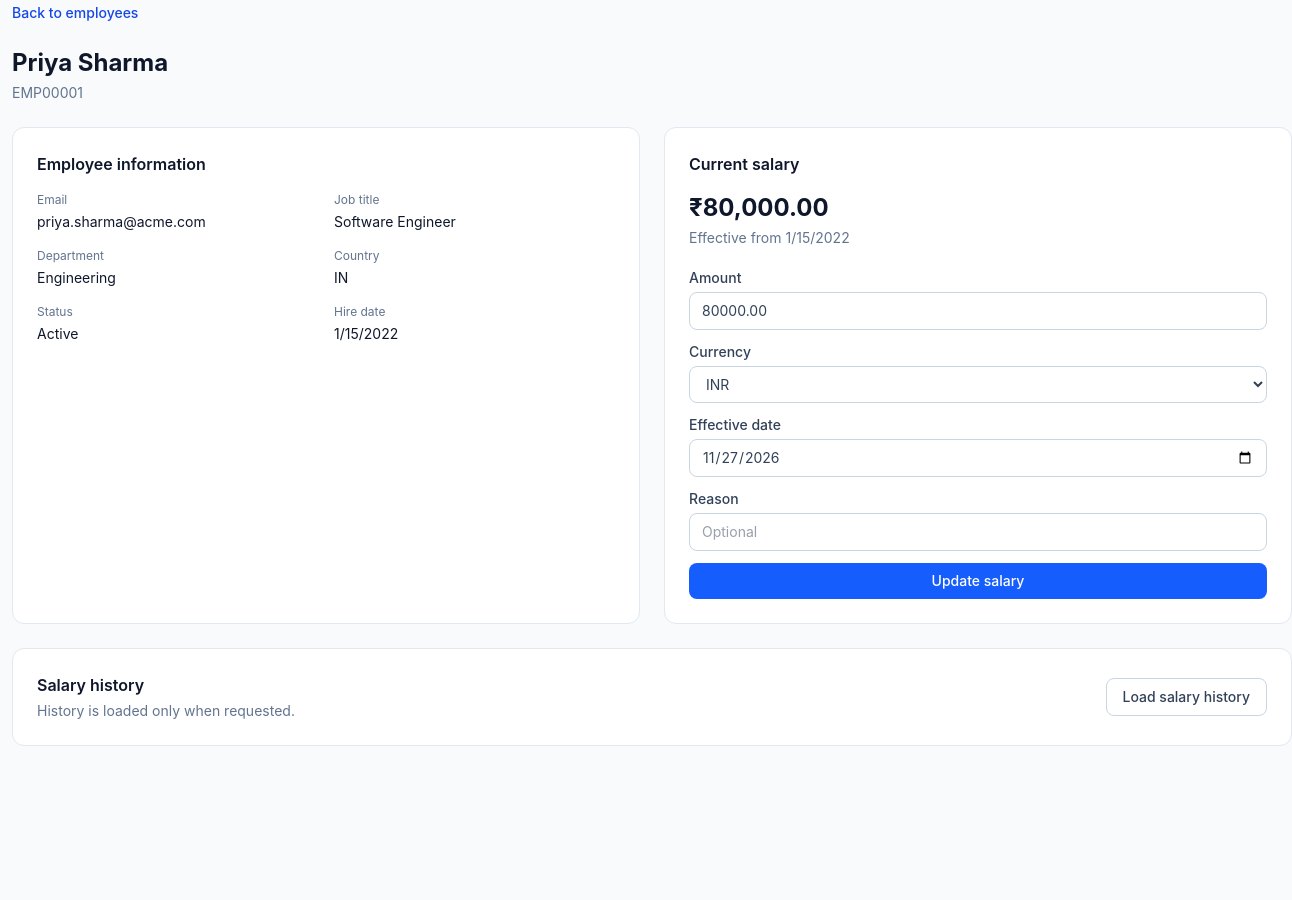
Test: EmployeeDetails › submits salary in integer minor units and refreshes details
Check: the heading "Priya Sharma" is shown, box [12,48,168,77]
Replace the text in the number field named "Salary amount" with "85000" at (978, 311), box [689,292,1267,330]
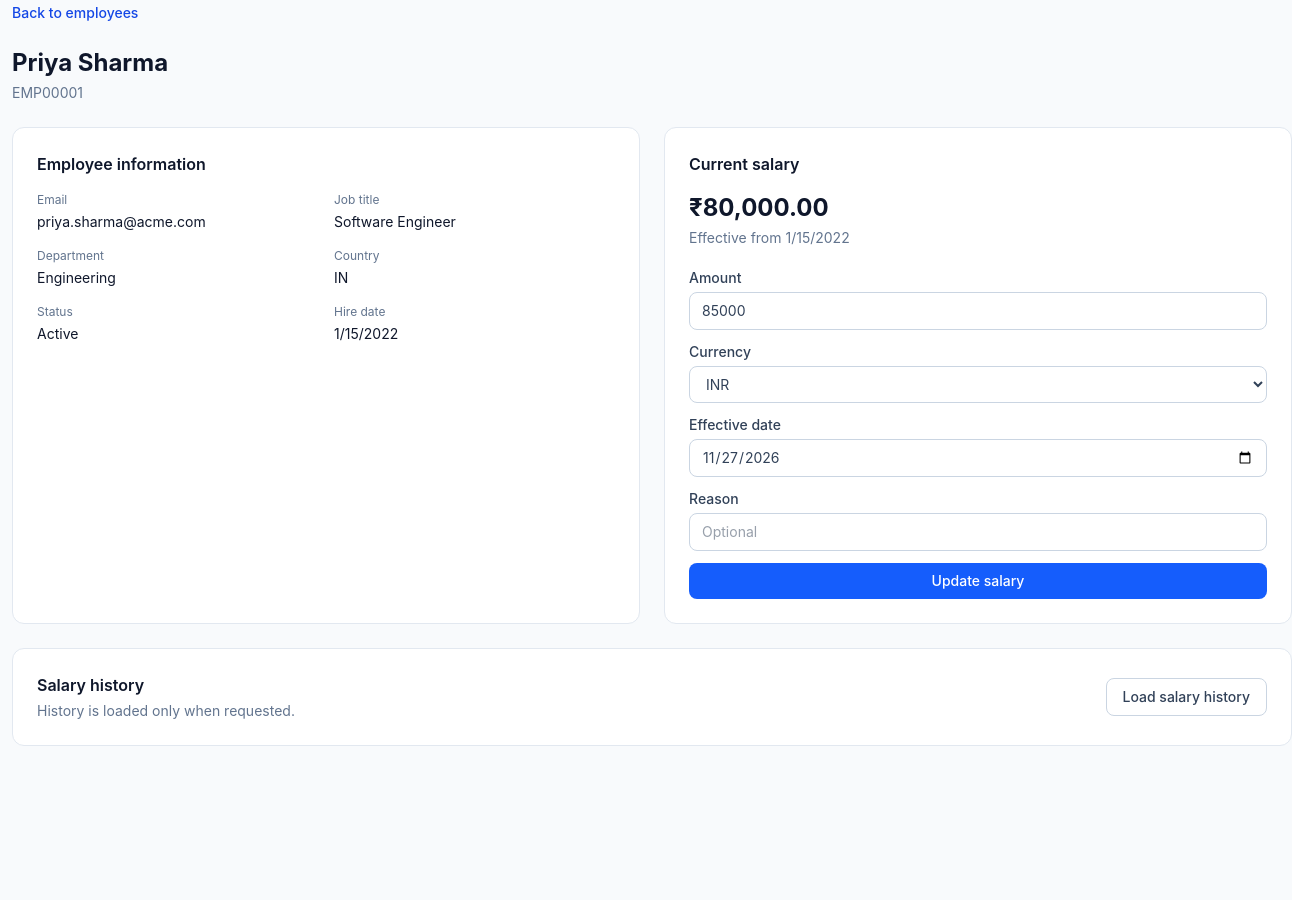
Select "INR" in the dropdown named "Salary currency" at (978, 384), box [689,366,1267,403]
Type "2026-11-23" into the date field named "Salary effective date" at (978, 458), box [689,439,1267,477]
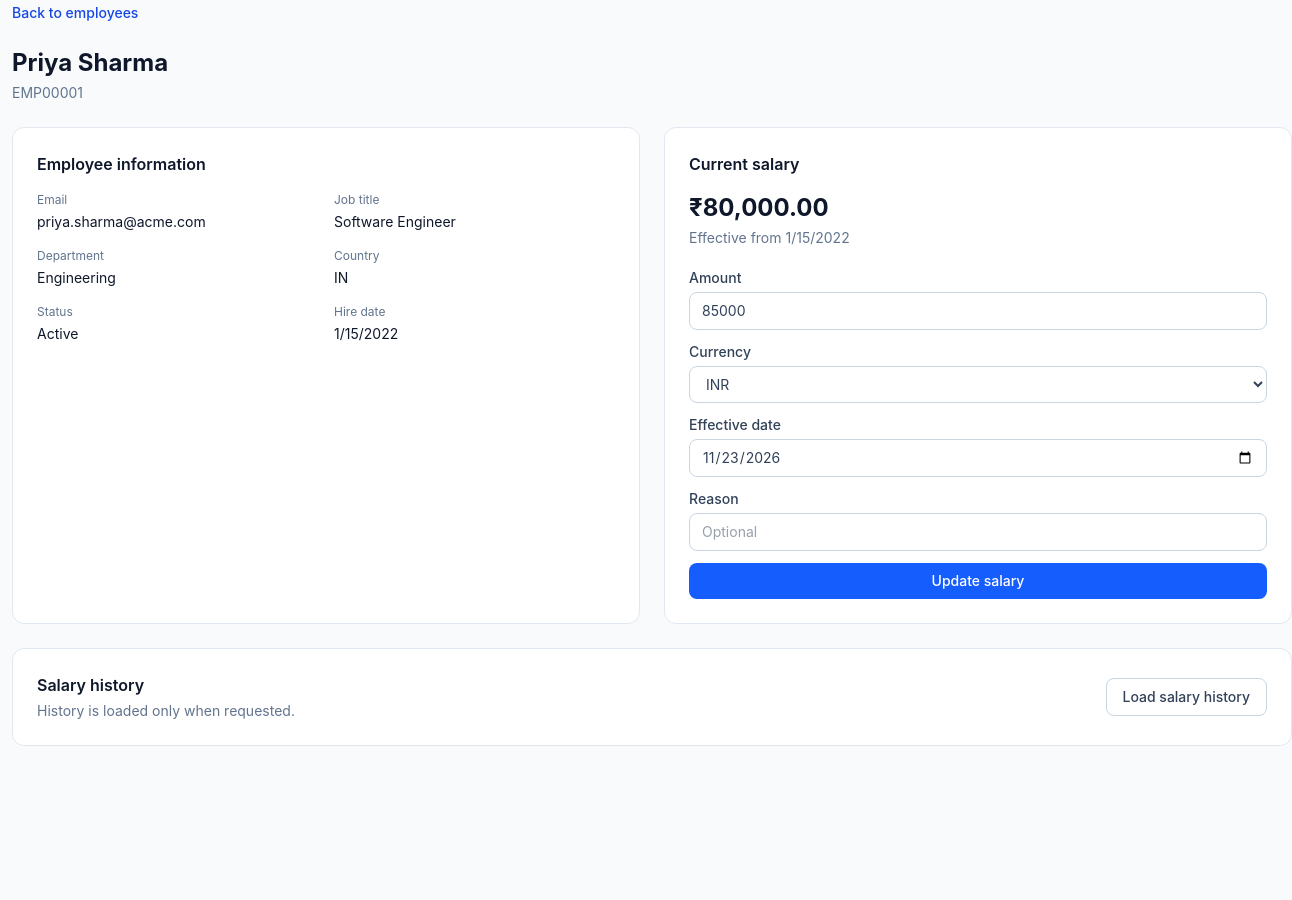
Type "Annual adjustment" into the field named "Salary update reason" at (978, 532), box [689,513,1267,551]
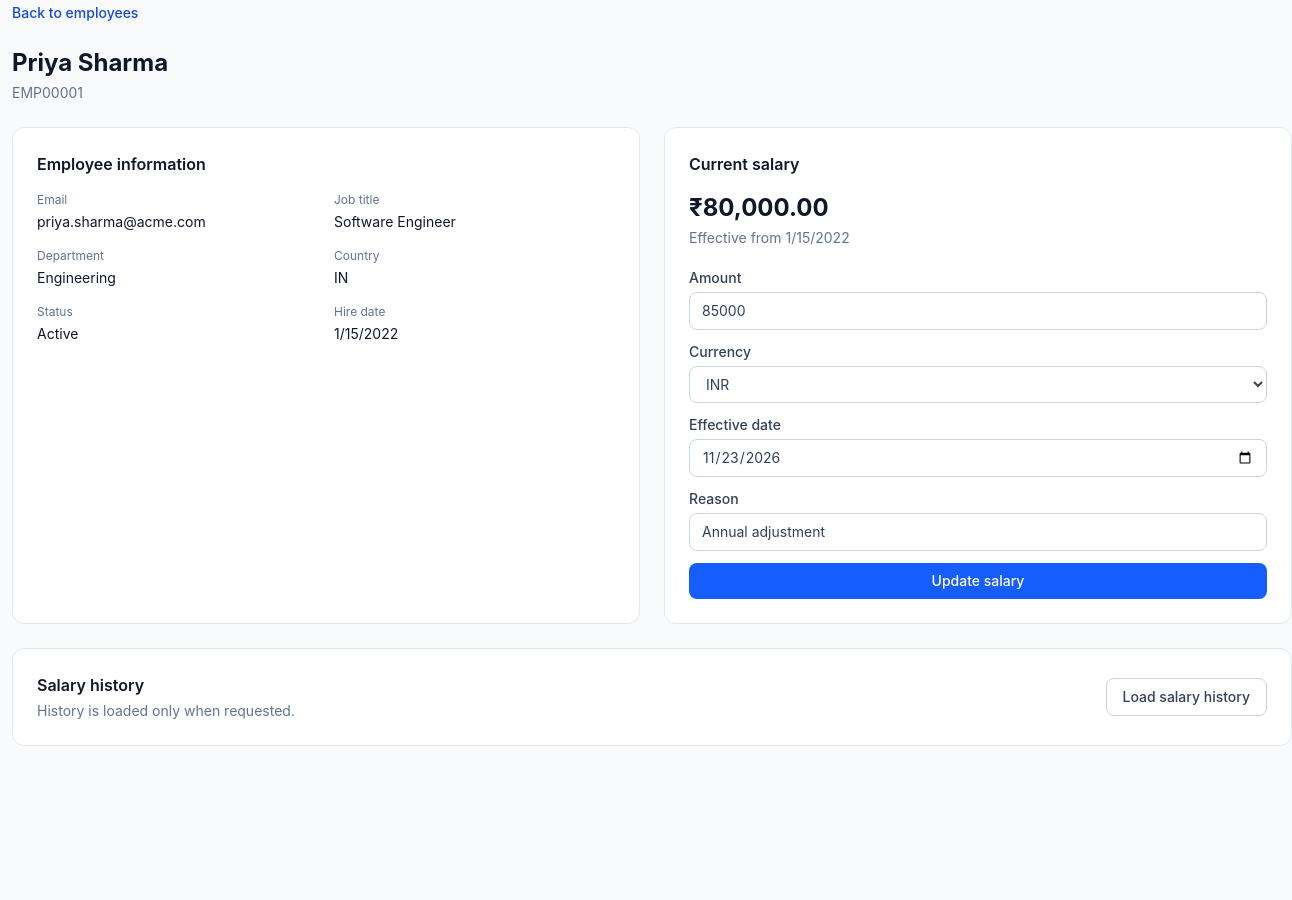
Click the button "Update salary" at (978, 581), box [689,563,1267,599]
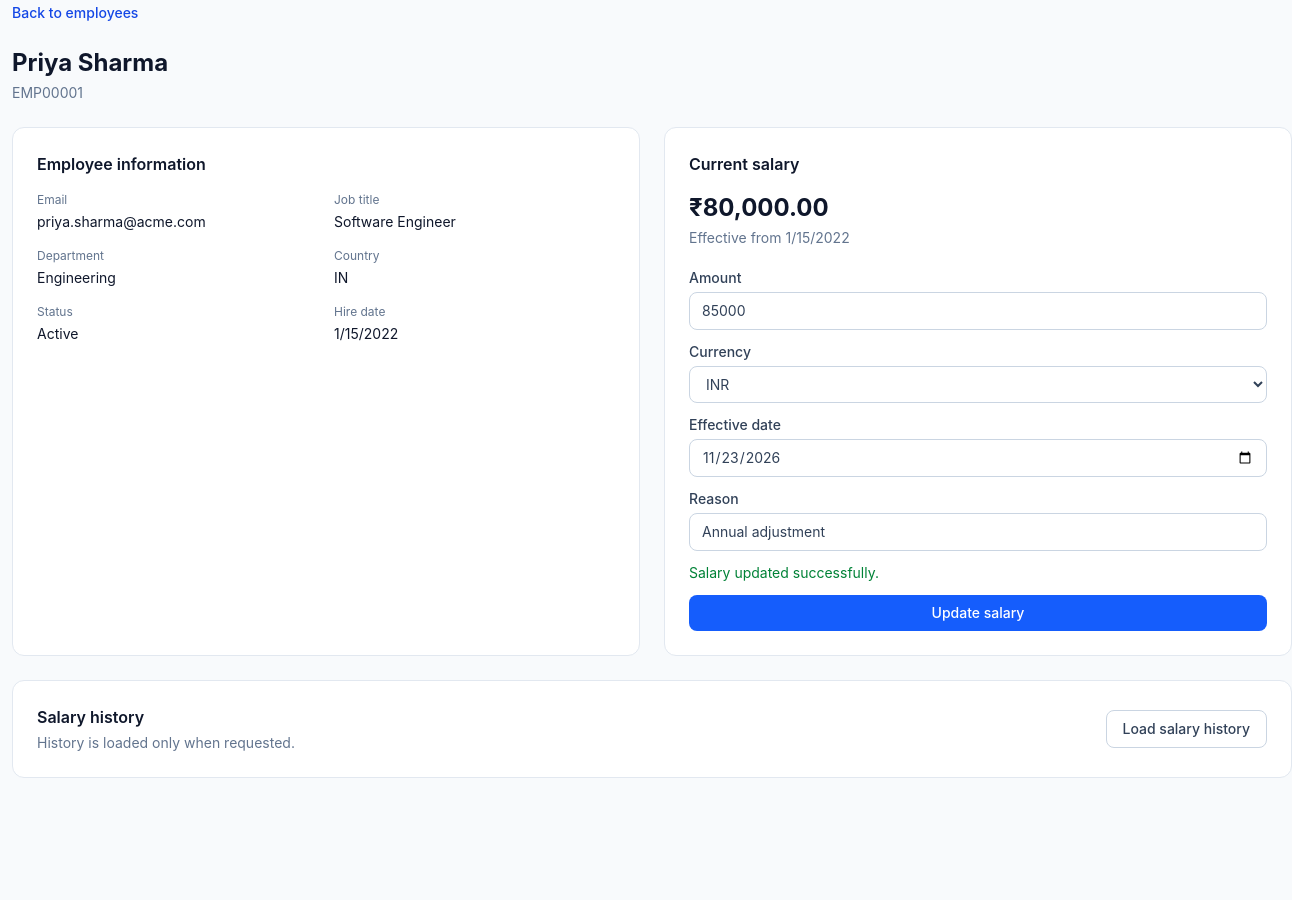
Check: the text "Salary updated successfully." is shown, box [689,564,879,581]
